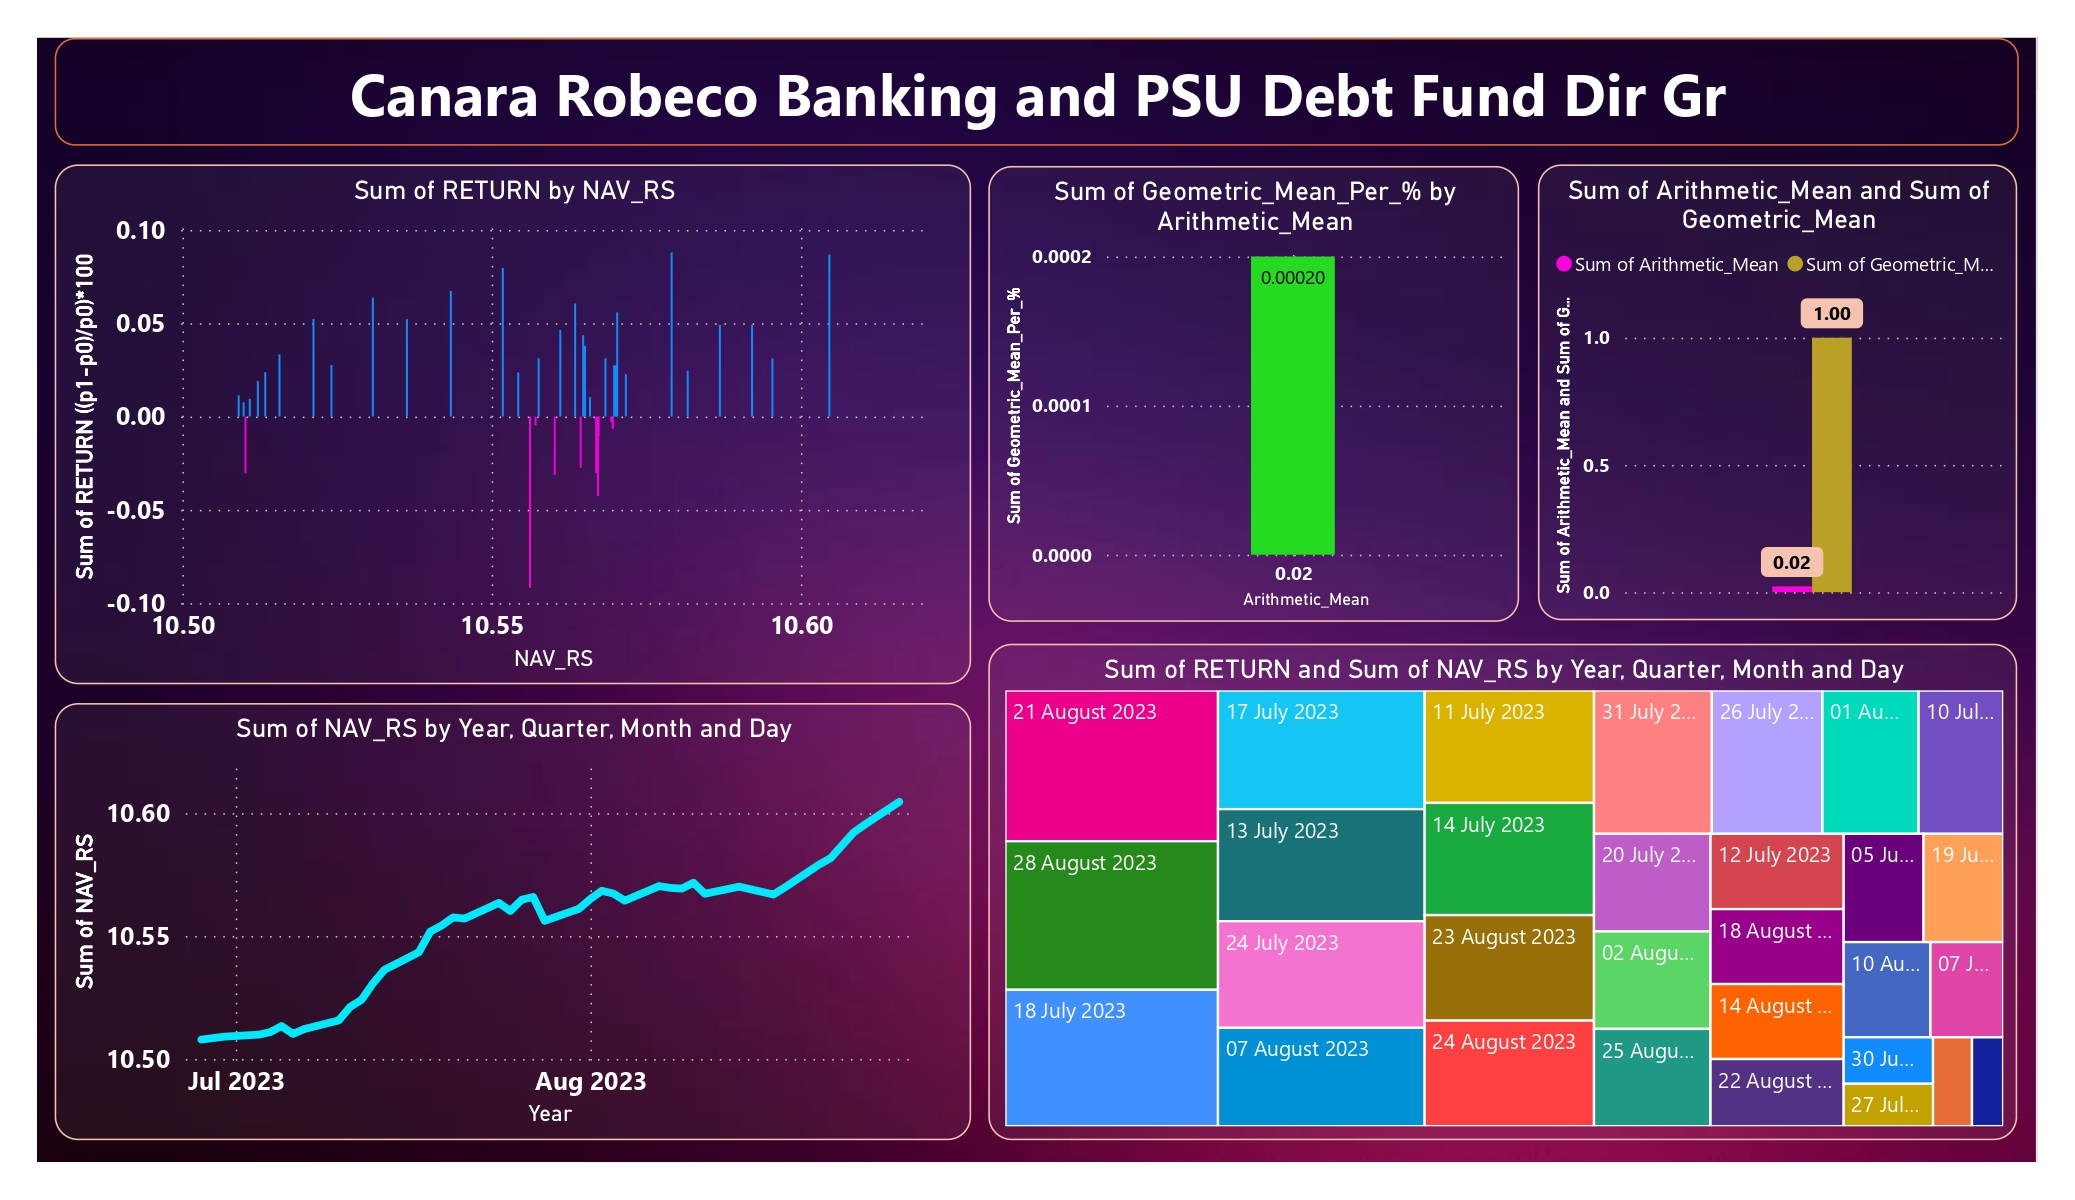

The page's visual inventory and layout, read from the dashboard file:
{"tool":"powerbi","page":{"name":"Canara Robeco Banking and PSU Debt Fund Dir Gr","canvas":[1280,720],"ordinal":4},"visuals":[{"type":"textbox","box":[11.4,0,1257.1,68.6],"z":0},{"type":"lineChart","fields":{"Category":["Canara Robeco Banking and PSU Debt Fund Dir Gr.NAV_Date.Variation.Date Hierarchy.Year","Canara Robeco Banking and PSU Debt Fund Dir Gr.NAV_Date.Variation.Date Hierarchy.Quarter","Canara Robeco Banking and PSU Debt Fund Dir Gr.NAV_Date.Variation.Date Hierarchy.Month","Canara Robeco Banking and PSU Debt Fund Dir Gr.NAV_Date.Variation.Date Hierarchy.Day"],"Y":["Sum(Canara Robeco Banking and PSU Debt Fund Dir Gr.NAV_RS)"]},"box":[11,426.4,586.8,279.7],"z":1000},{"type":"treemap","title":"Sum of RETURN and Sum of NAV_RS by Year, Quarter, Month and Day","fields":{"Details":["Canara Robeco Banking and PSU Debt Fund Dir Gr.NAV_Date"],"Values":["Sum(Canara Robeco Banking and PSU Debt Fund Dir Gr.RETURN ((p1-p0)/p0)*100)"]},"box":[608.7,388,659.5,318.1],"z":2000},{"type":"clusteredColumnChart","title":"Sum of RETURN by NAV_RS","fields":{"Category":["Canara Robeco Banking and PSU Debt Fund Dir Gr.NAV_RS"],"Y":["Sum(Canara Robeco Banking and PSU Debt Fund Dir Gr.RETURN ((p1-p0)/p0)*100)"]},"box":[11,80.9,586.8,333.2],"z":3000},{"type":"clusteredColumnChart","fields":{"Y":["Sum(Canara Robeco Banking and PSU Debt Fund Dir Gr.Arithmetic_Mean)","Sum(Canara Robeco Banking and PSU Debt Fund Dir Gr.Geometric_Mean)"]},"box":[961.1,80.9,307.1,292],"z":4000},{"type":"columnChart","fields":{"Category":["Canara Robeco Banking and PSU Debt Fund Dir Gr.Arithmetic_Mean"],"Y":["Sum(Canara Robeco Banking and PSU Debt Fund Dir Gr.Geometric_Mean_Per_%)"]},"box":[608.7,82.3,340,292],"z":5000}]}

Visuals, with their boxes on the page's 1280x720 design canvas (x1, y1, x2, y2). These are canvas units, not pixel positions in the 2075x1200 screenshot, which may show the page scaled, cropped or inside an application window:
textbox: select_region(11, 0, 1268, 69)
lineChart - Canara Robeco Banking and PSU Debt Fund Dir Gr.NAV_Date.Variation.Date Hierarchy.Year x Canara Robeco Banking and PSU Debt Fund Dir Gr.NAV_Date.Variation.Date Hierarchy.Quarter: select_region(11, 426, 598, 706)
"Sum of RETURN and Sum of NAV_RS by Year, Quarter, Month and Day" treemap: select_region(609, 388, 1268, 706)
"Sum of RETURN by NAV_RS" clusteredColumnChart: select_region(11, 81, 598, 414)
clusteredColumnChart - Sum(Canara Robeco Banking and PSU Debt Fund Dir Gr.Arithmetic_Mean) x Sum(Canara Robeco Banking and PSU Debt Fund Dir Gr.Geometric_Mean): select_region(961, 81, 1268, 373)
columnChart - Canara Robeco Banking and PSU Debt Fund Dir Gr.Arithmetic_Mean x Sum(Canara Robeco Banking and PSU Debt Fund Dir Gr.Geometric_Mean_Per_%): select_region(609, 82, 949, 374)
